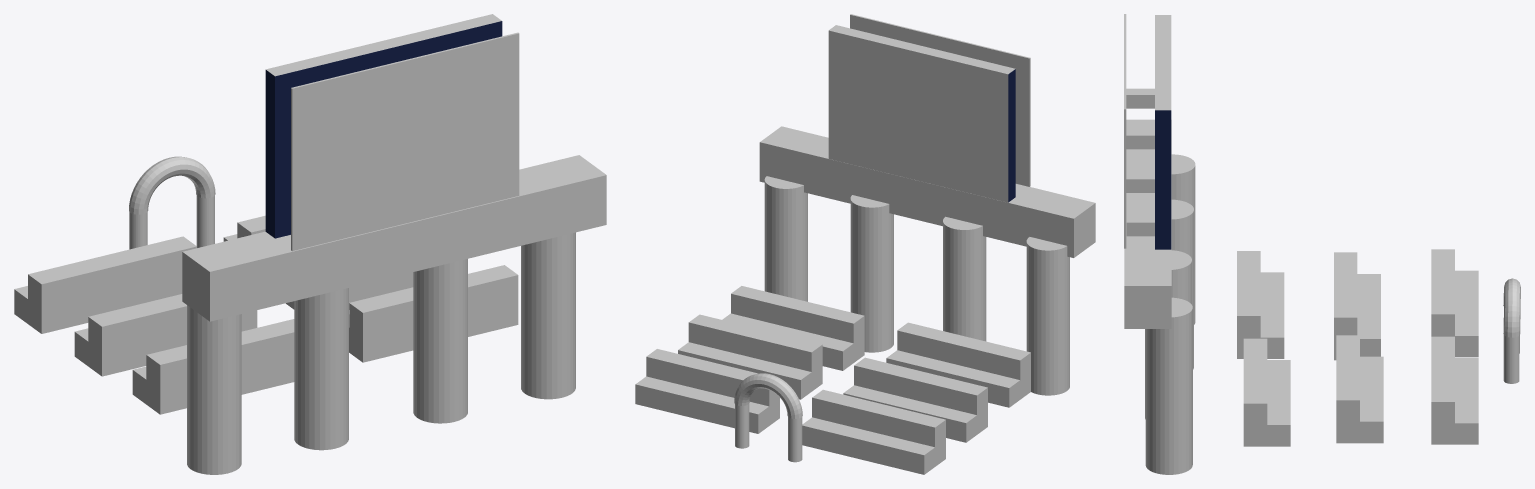
Rendered from Church v2.fbx.
3 views of the same model, side by side, from view 1: azimuth 30°, elevation 25°; view 2: azimuth 150°, elevation 25°; view 3: azimuth 270°, elevation 25° (orthographic). The views are drawn at different scales.
Parts seen in each view (by area): view 1: Cube_013, Cube, Cube_006, Cube_008, Cylinder_001, Cylinder, Cylinder_002, Cylinder_003, Cube_001, Cube_005, Cube_004, Torus (+3 smaller); view 2: Cube_008, Cube, Cube_006, Cube_003, Cube_004, Cylinder, Cube_002, Cube_005, Cylinder_002, Cube_001, Cylinder_001, Cylinder_003 (+4 smaller); view 3: Cylinder_001, Cube, Cube_002, Cube_001, Cube_003, Cube_006, Cube_004, Cube_008, Cube_005, Cylinder, Cylinder_003, Cylinder_002 (+7 smaller).
Part boxes in pixels (x1=…): Cube_013: x1=291, y1=32, x2=519, y2=250; Cube: x1=182, y1=155, x2=606, y2=321; Cube_006: x1=14, y1=236, x2=196, y2=333; Cube_008: x1=265, y1=14, x2=502, y2=238; Cylinder_001: x1=521, y1=232, x2=575, y2=399; Cylinder: x1=187, y1=305, x2=241, y2=474; Cylinder_002: x1=413, y1=259, x2=467, y2=423; Cylinder_003: x1=294, y1=288, x2=348, y2=450; Cube_001: x1=349, y1=265, x2=518, y2=362; Cube_005: x1=74, y1=294, x2=257, y2=376; Cube_004: x1=132, y1=319, x2=294, y2=414; Torus: x1=129, y1=156, x2=215, y2=214; Cube_008: x1=828, y1=25, x2=1015, y2=202; Cube: x1=759, y1=126, x2=1095, y2=257; Cube_006: x1=802, y1=389, x2=945, y2=474; Cube_003: x1=635, y1=349, x2=779, y2=433; Cube_004: x1=886, y1=322, x2=1030, y2=407; Cylinder: x1=1026, y1=237, x2=1069, y2=395; Cube_002: x1=678, y1=314, x2=822, y2=399; Cube_005: x1=843, y1=357, x2=987, y2=442; Cylinder_002: x1=850, y1=195, x2=893, y2=352; Cube_001: x1=722, y1=286, x2=864, y2=370; Cylinder_001: x1=764, y1=176, x2=807, y2=301; Cylinder_003: x1=943, y1=216, x2=986, y2=341; Cylinder_001: x1=1145, y1=297, x2=1192, y2=474; Cube: x1=1124, y1=119, x2=1171, y2=328; Cube_002: x1=1336, y1=335, x2=1383, y2=443; Cube_001: x1=1243, y1=338, x2=1290, y2=446; Cube_003: x1=1431, y1=336, x2=1478, y2=444; Cube_006: x1=1431, y1=249, x2=1478, y2=357; Cube_004: x1=1237, y1=251, x2=1284, y2=358; Cube_008: x1=1155, y1=15, x2=1171, y2=249; Cube_005: x1=1334, y1=252, x2=1380, y2=360; Cylinder: x1=1171, y1=154, x2=1195, y2=324; Cylinder_003: x1=1171, y1=199, x2=1193, y2=369; Cylinder_002: x1=1145, y1=250, x2=1191, y2=419.
Size of the model in its own units: 16.68 by 15.54 by 16.81.
4 materials, 1 textured.
